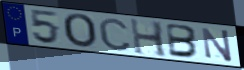5: (27, 8, 62, 45)
B: (166, 22, 201, 59)
C: (96, 17, 133, 53)
H: (128, 17, 169, 59)
N: (200, 27, 235, 64)
O: (61, 13, 98, 50)
